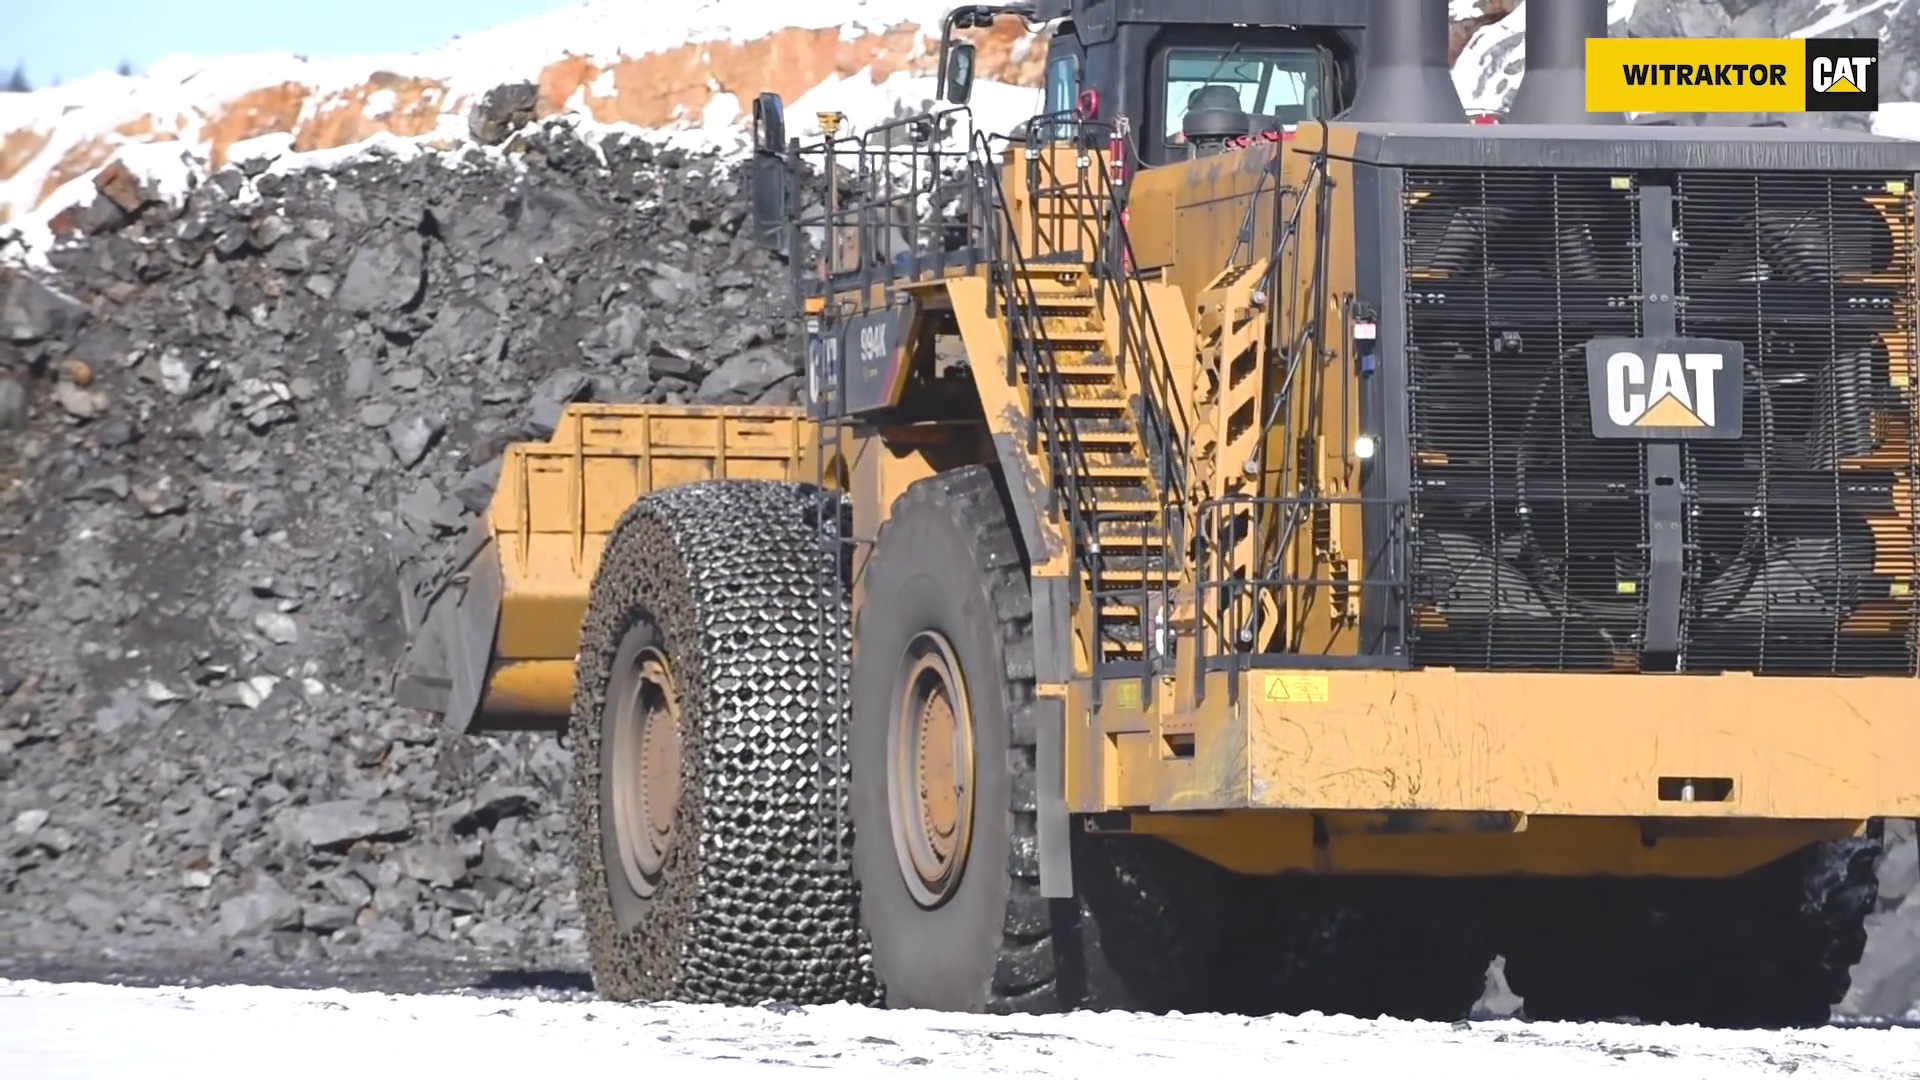wheel loader: (392, 4, 1920, 1021)
